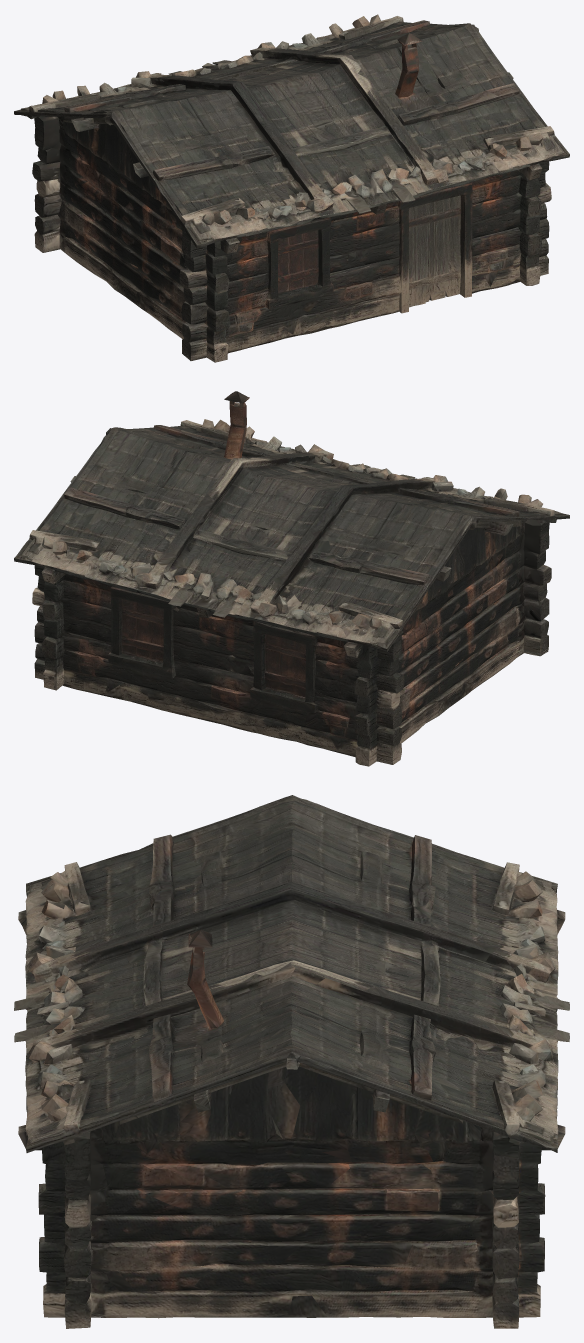
Rendered from shack_b.glb.
3 renders of one model, top to bottom at view 1: azimuth 30°, elevation 25°; view 2: azimuth 150°, elevation 25°; view 3: azimuth 270°, elevation 25°, orthographic. The views are drawn at different scales.
Visible parts, largest first — view 1: mesh_node; view 2: mesh_node; view 3: mesh_node.
Boxes of the visible parts, box(x1,y1,x2,y2) form: mesh_node: box(14, 14, 569, 362); mesh_node: box(14, 391, 569, 766); mesh_node: box(14, 795, 569, 1328).
Size of the model in its own units: 1.9 by 1.11 by 1.67.
1 material, 1 textured.
